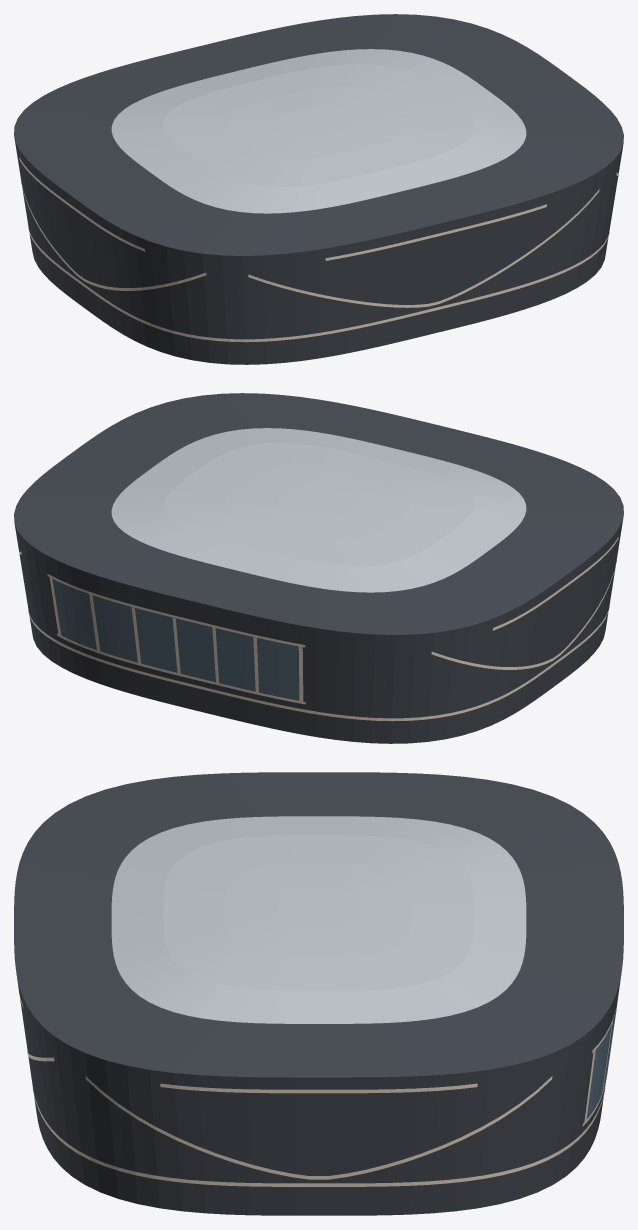
Rendered from lv-allegiant-stadium.glb.
3 renders of one model, top to bottom at view 1: azimuth 30°, elevation 25°; view 2: azimuth 150°, elevation 25°; view 3: azimuth 270°, elevation 25°, orthographic. The views are drawn at different scales.
Visible parts, largest first — view 1: Allegiant Stadium; view 2: Allegiant Stadium; view 3: Allegiant Stadium.
Boxes of the visible parts, x1,y1,x2,y2 form: Allegiant Stadium: [14, 14, 623, 364]; Allegiant Stadium: [14, 393, 623, 743]; Allegiant Stadium: [14, 772, 623, 1215].
Size of the model in its own units: 276 by 69 by 233.
